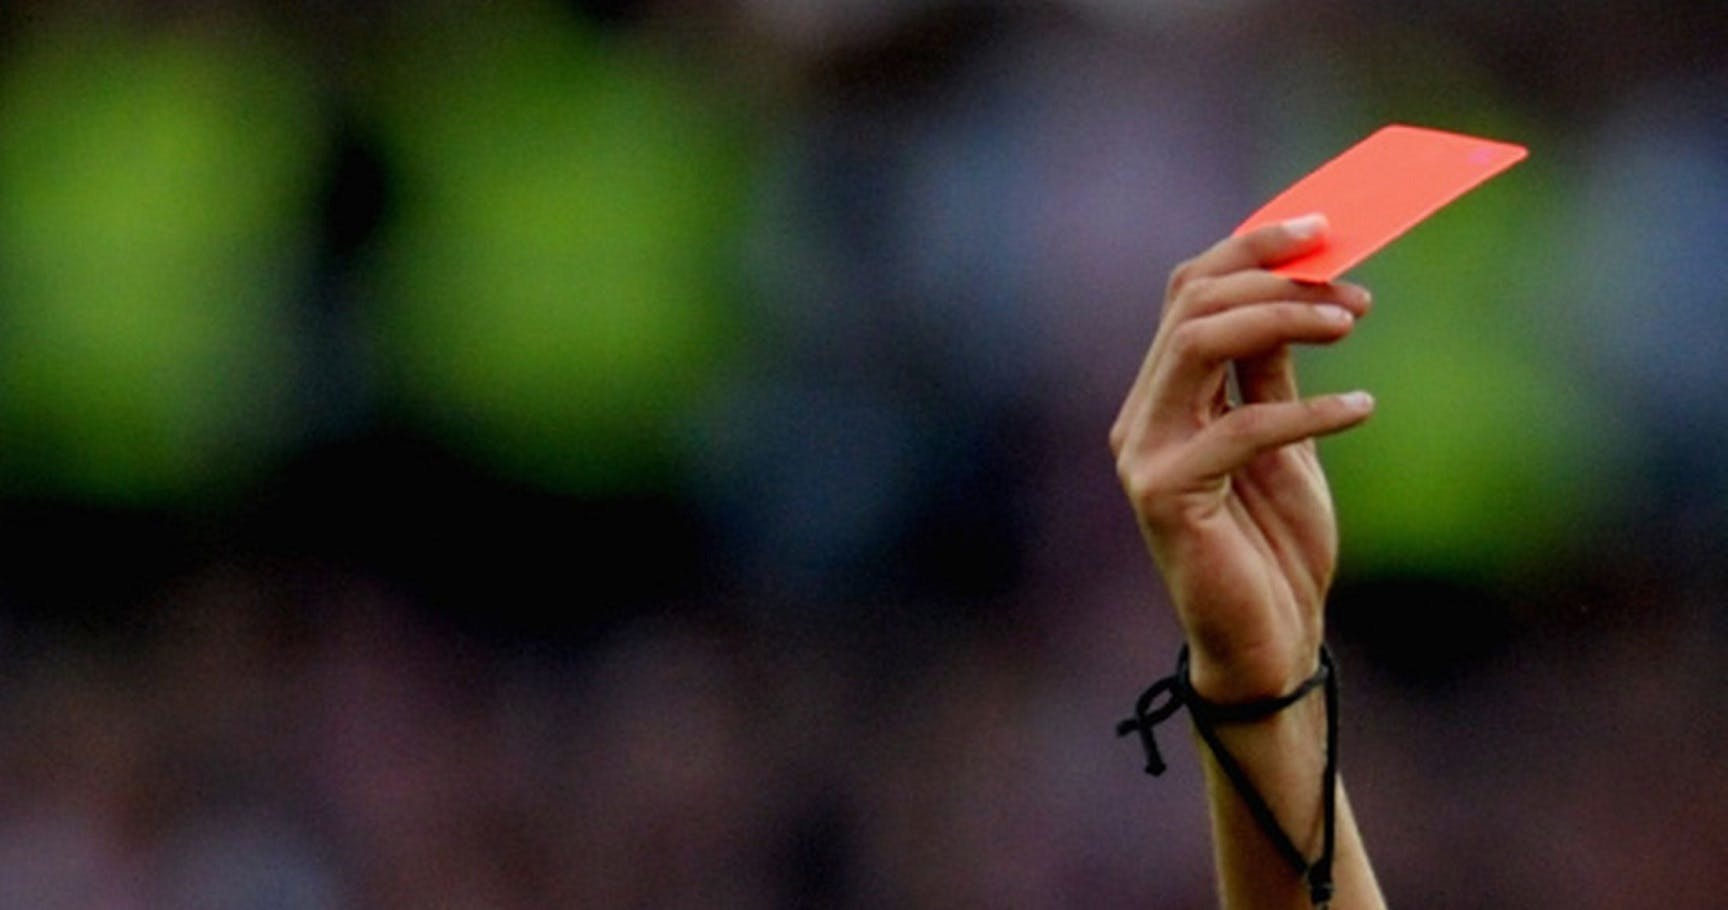red_card: (1091, 40, 1554, 664)
